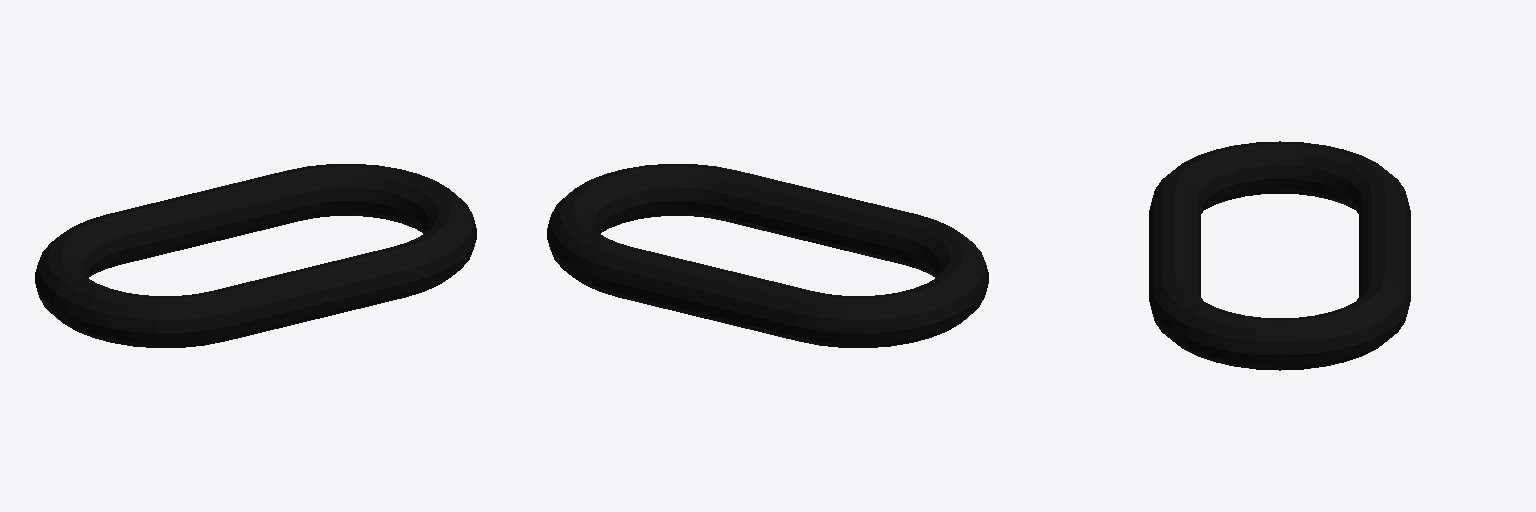
File: chain.obj
3 views of the same model, side by side, from view 1: azimuth 30°, elevation 25°; view 2: azimuth 150°, elevation 25°; view 3: azimuth 270°, elevation 25° (orthographic).
Parts seen in each view (by area): view 1: Torus; view 2: Torus; view 3: Torus.
Boxes of the visible parts, x1=… form: Torus: x1=35, y1=164, x2=476, y2=347; Torus: x1=547, y1=164, x2=988, y2=347; Torus: x1=1149, y1=141, x2=1410, y2=370.
Size of the model in its own units: 4.5 by 0.5 by 2.5.